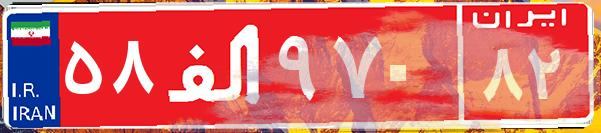0: (385, 28, 445, 110)
2: (525, 38, 570, 115)
5: (57, 26, 110, 107)
7: (330, 28, 385, 110)
8: (475, 38, 525, 113), (110, 28, 158, 105)
9: (273, 28, 330, 110)
الف: (158, 15, 273, 115)
